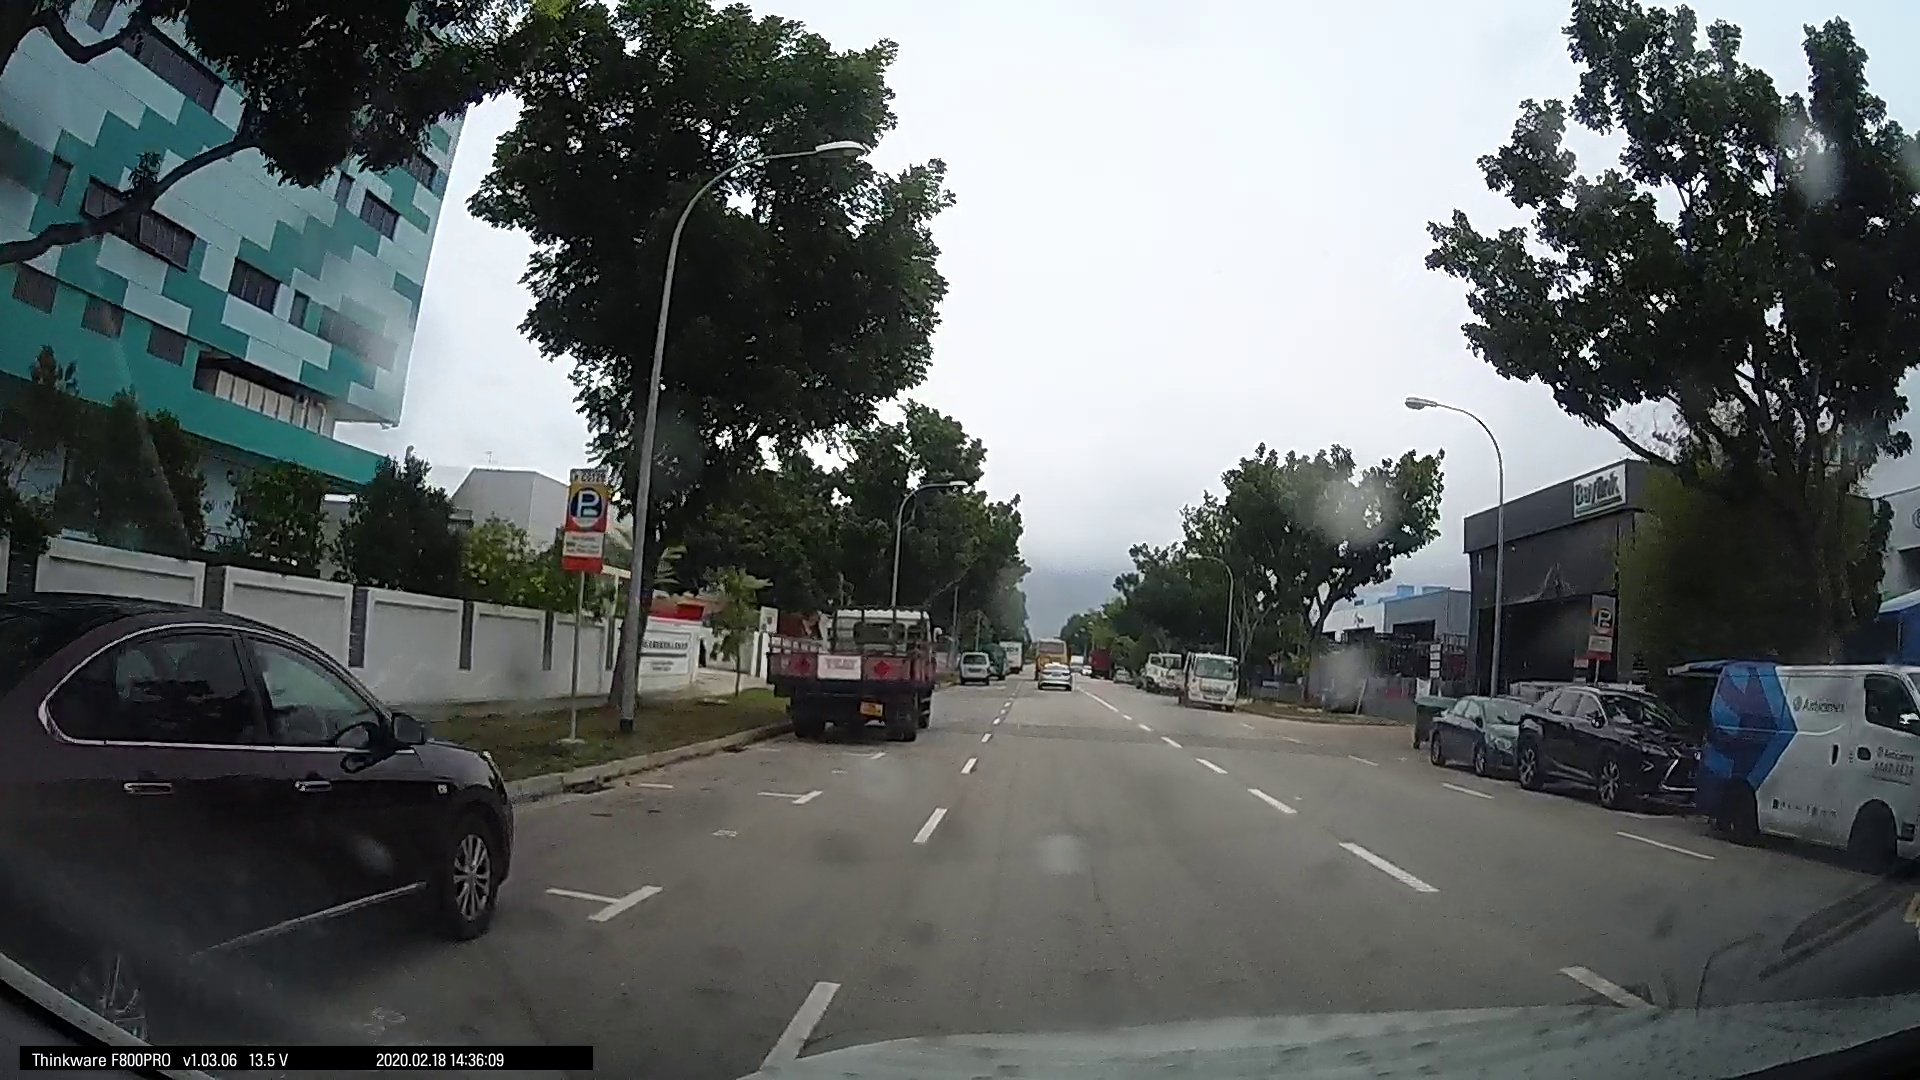Heavy Vehicle: (781, 600, 942, 738)
Light Vehicle: (1, 605, 530, 1001), (1691, 654, 1919, 865), (1507, 679, 1709, 808), (1422, 688, 1519, 778), (1172, 649, 1237, 707), (1030, 646, 1073, 687), (952, 644, 996, 684)
